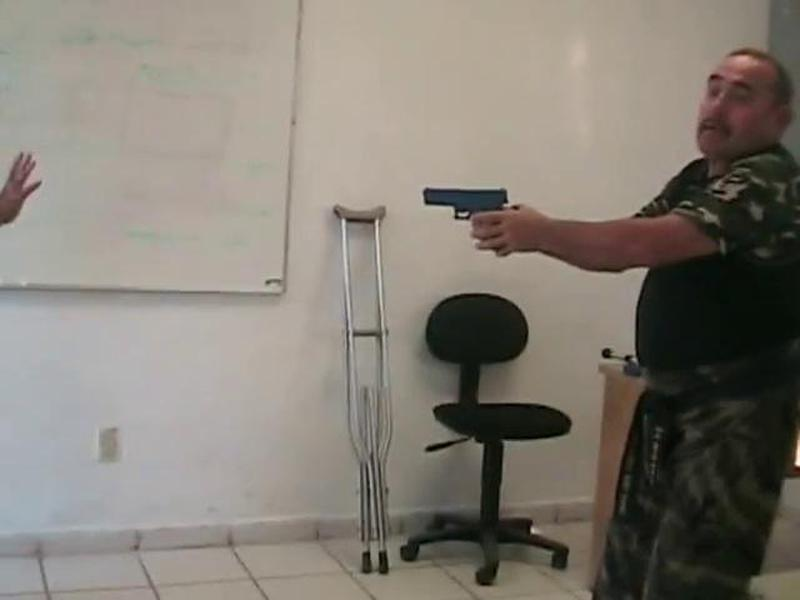Pistola: (417, 181, 515, 226)
